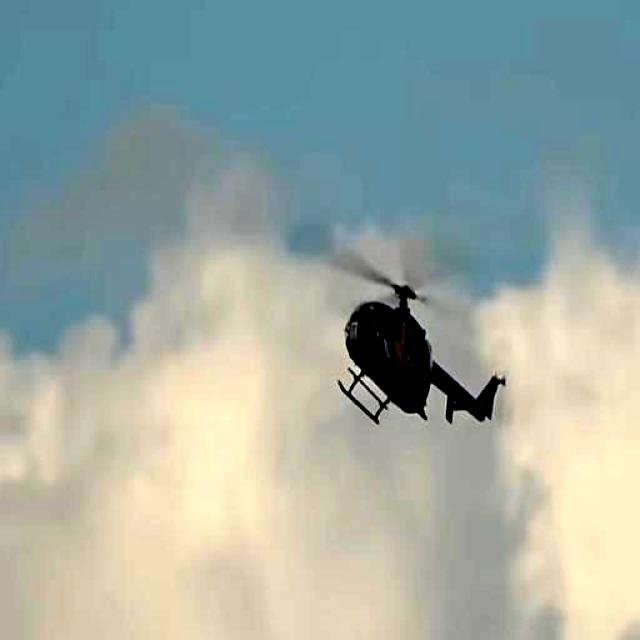drone: (300, 202, 509, 495)
